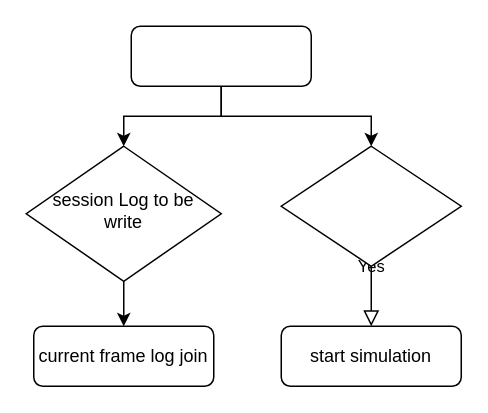
Some shapes in this 488 by 413 pixel diagram are drawn without their labels. Here are the shapes that lost their labels. From the top down, the box of each, then its label:
(130, 25, 311, 86): Client Join count increase +1
(280, 145, 461, 266): join count = 2 game not started
